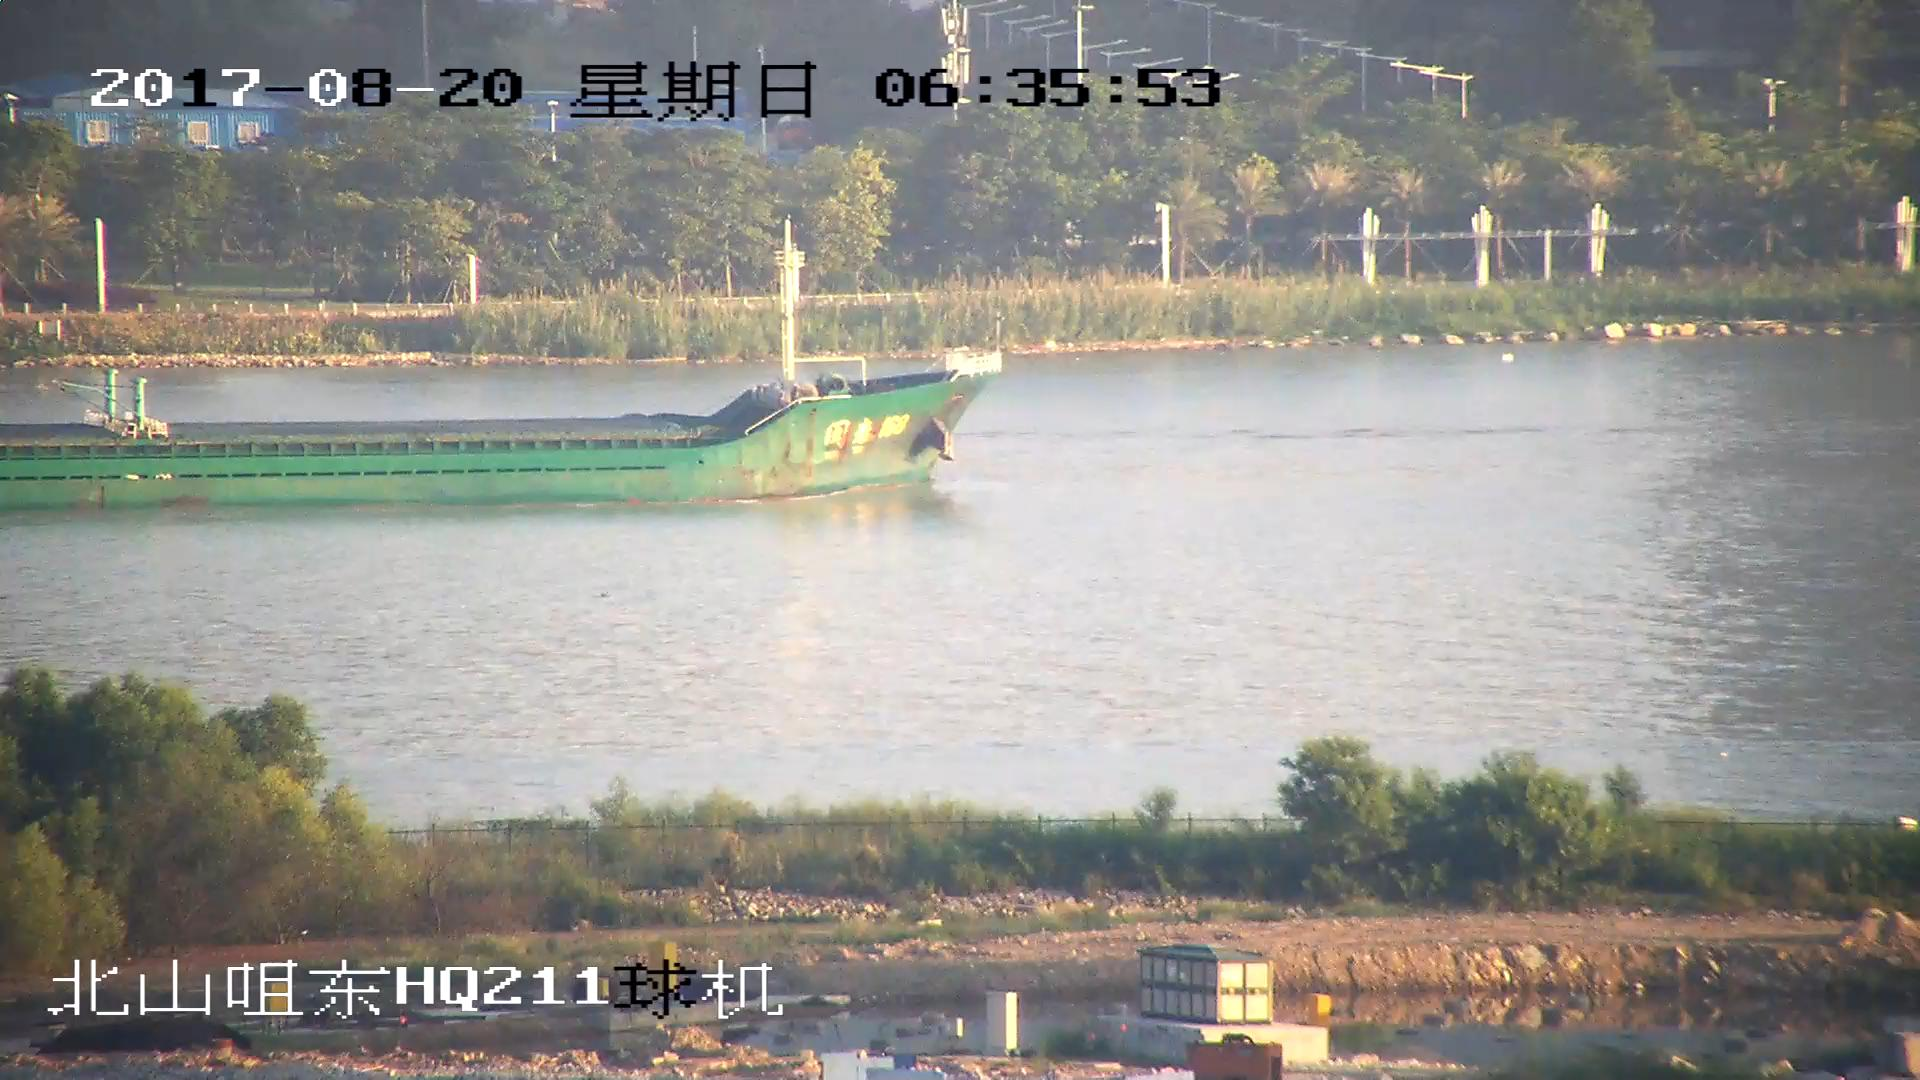general cargo ship: (1, 238, 1003, 512)
